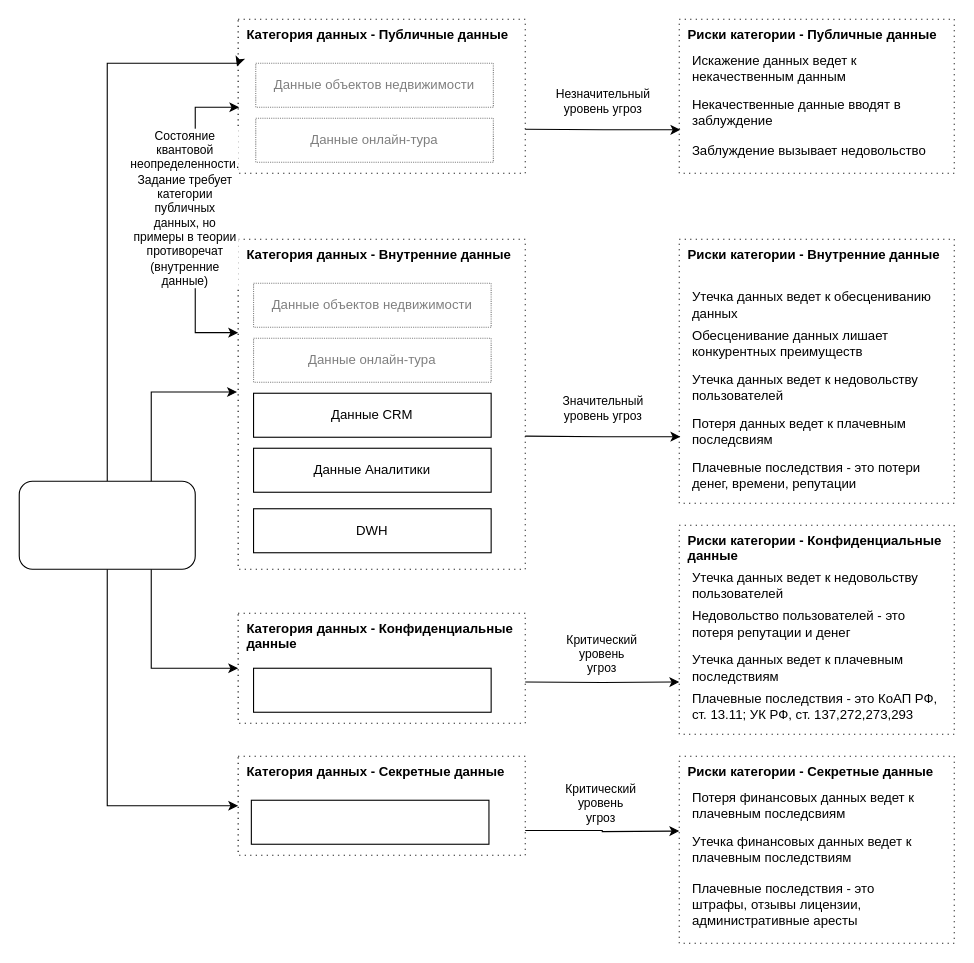
Some shapes in this 974 by 963 pixel diagram are drawn without their labels. The centre of each missing label's shape, as x and y in pixels:
Безопасность данных: (106,524)
Данные покупателей: (371,689)
Данные Сделок покупки недвижимости: (369,821)
